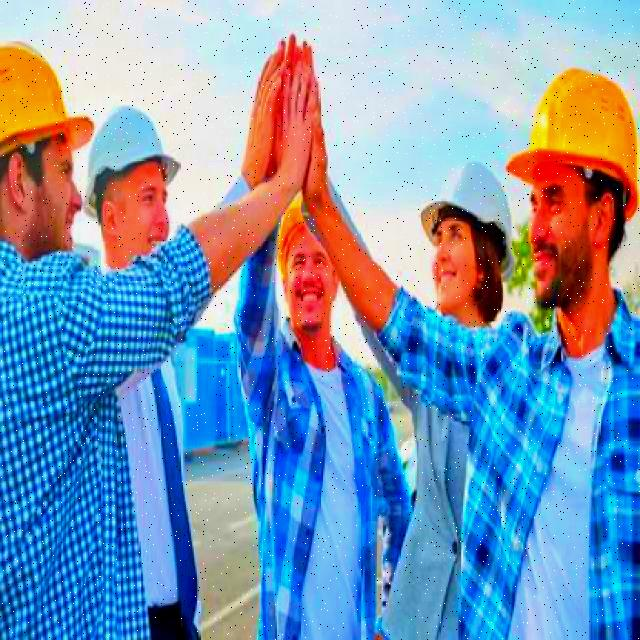Helmet: (504, 68, 638, 224), (416, 155, 518, 280), (0, 36, 95, 161), (81, 104, 184, 219), (272, 202, 311, 293)
